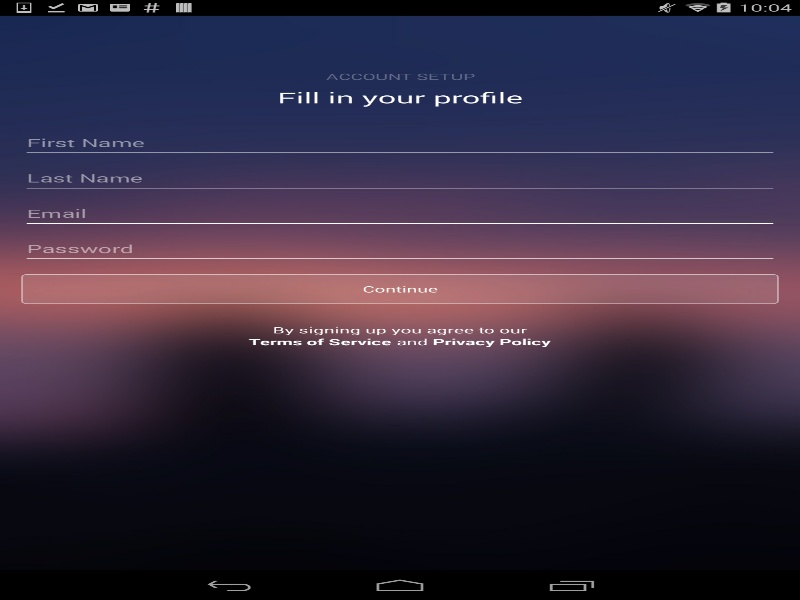Button: (21, 274, 778, 304)
Input: (21, 129, 778, 158), (21, 235, 778, 264), (21, 165, 778, 193), (21, 200, 778, 228)
